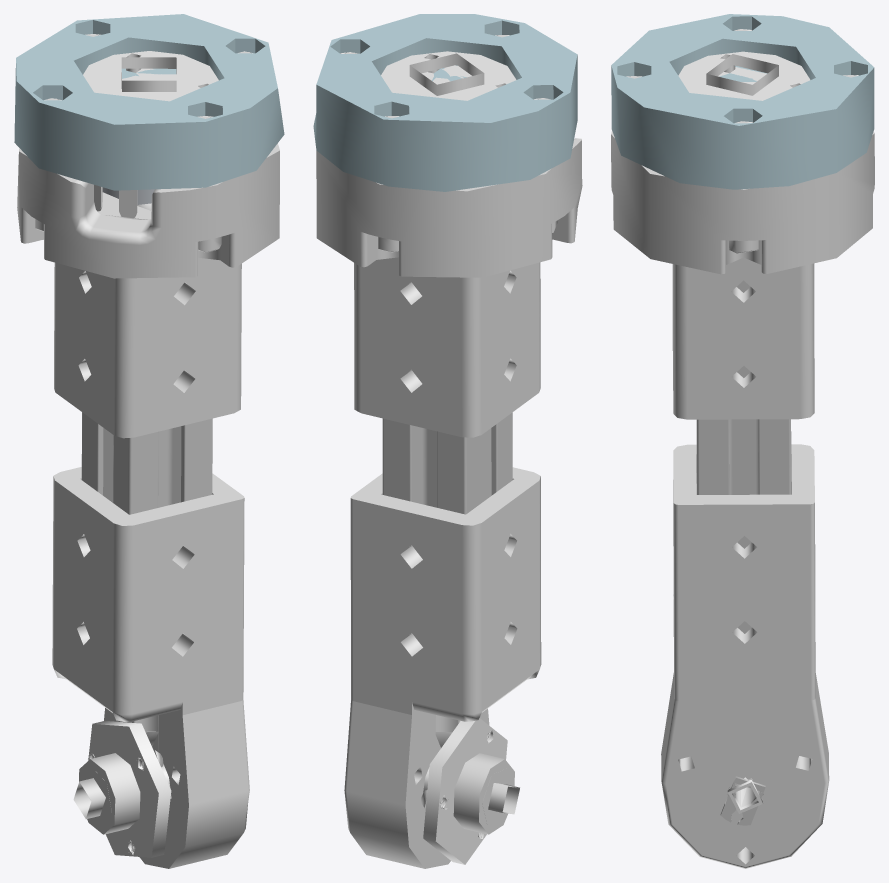
Rendered from art5.glb.
3 views of the same model, side by side, from view 1: azimuth 30°, elevation 25°; view 2: azimuth 150°, elevation 25°; view 3: azimuth 270°, elevation 25° (orthographic). The views are drawn at different scales.
Visible parts, largest first — view 1: art5; view 2: art5; view 3: art5.
Boxes of the visible parts, bbox=[...] form: art5: bbox=[14, 14, 284, 868]; art5: bbox=[313, 14, 582, 868]; art5: bbox=[611, 14, 874, 868].
Bounding box in the file's own units: 0.5165 × 1.67 × 0.516.
